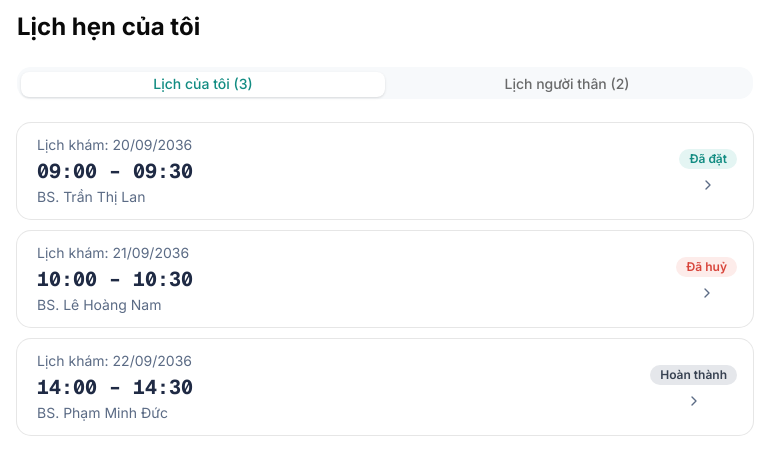
Test: AppointmentHistoryView › chuyển sang tab 'Lịch người thân' hiển thị 2 lịch
The width and height of the screenshot is (771, 453).
expect the tab "Lịch của tôi (3)" is shown: met, box [21,72,385,96]
expect the number of buttons with test id "appointment-history-card" is 3: met, box [17,123,753,219]; [17,231,753,327]; [17,339,753,435]
Click the tab "Lịch người thân (2)": (567, 84) [385,72,749,96]
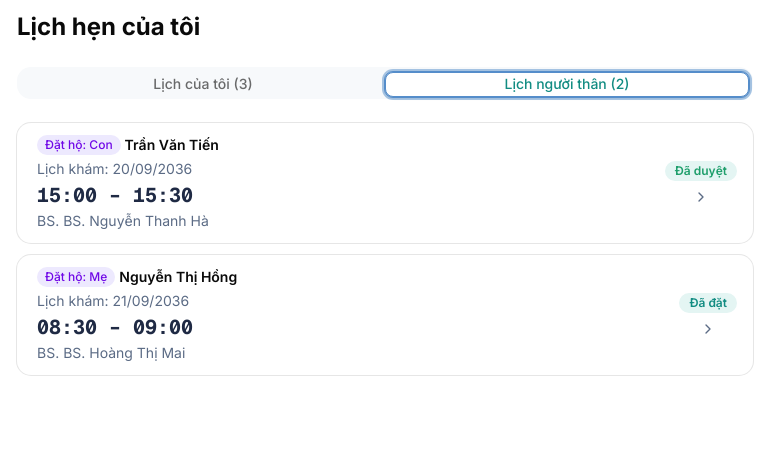
expect the number of buttons with test id "appointment-history-card" is 2: met, box [17,123,753,243]; [17,255,753,375]
